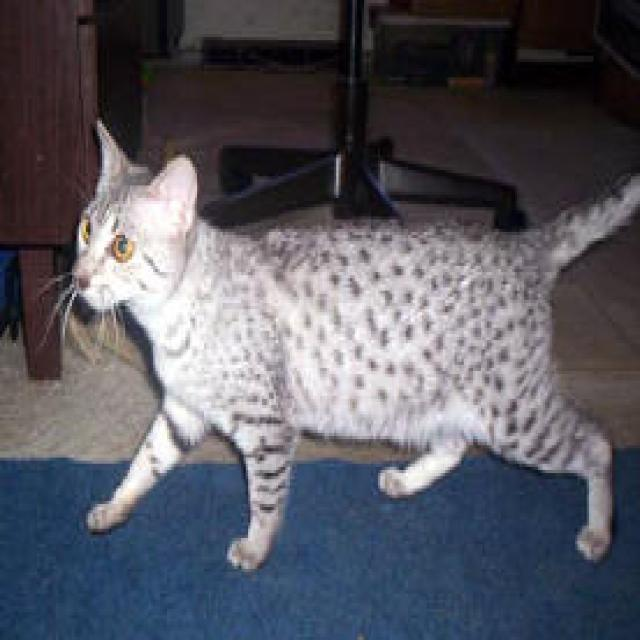Egyptian_Mau: (68, 116, 208, 320)
